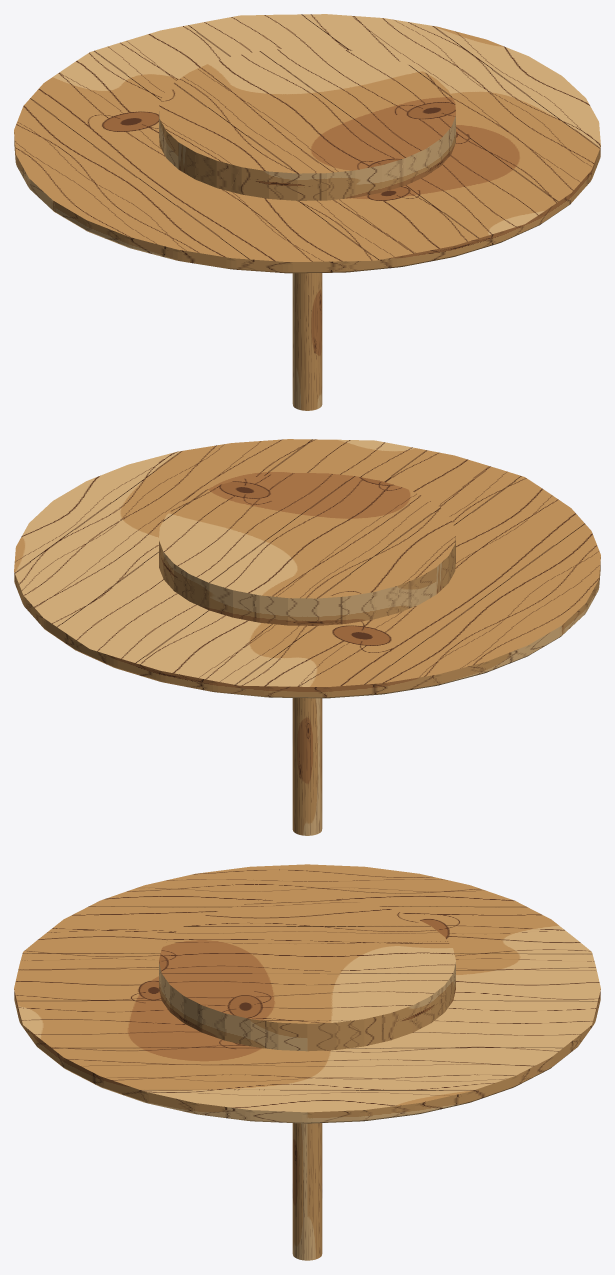
The model's file is TMP_Table.fbx.
The picture shows the model from 3 angles, top to bottom: view 1: azimuth 30°, elevation 25°; view 2: azimuth 150°, elevation 25°; view 3: azimuth 270°, elevation 25°; orthographic projection.
Visible parts, largest first — view 1: 円柱, 円柱.001; view 2: 円柱, 円柱.001; view 3: 円柱, 円柱.001.
Boxes of the visible parts, x1=… form: 円柱: x1=14, y1=14, x2=600, y2=273; 円柱.001: x1=292, y1=273, x2=322, y2=410; 円柱: x1=14, y1=439, x2=600, y2=698; 円柱.001: x1=292, y1=698, x2=322, y2=835; 円柱: x1=14, y1=864, x2=600, y2=1123; 円柱.001: x1=292, y1=1123, x2=322, y2=1260.
Size of the model in its own units: 400 by 221 by 400.
